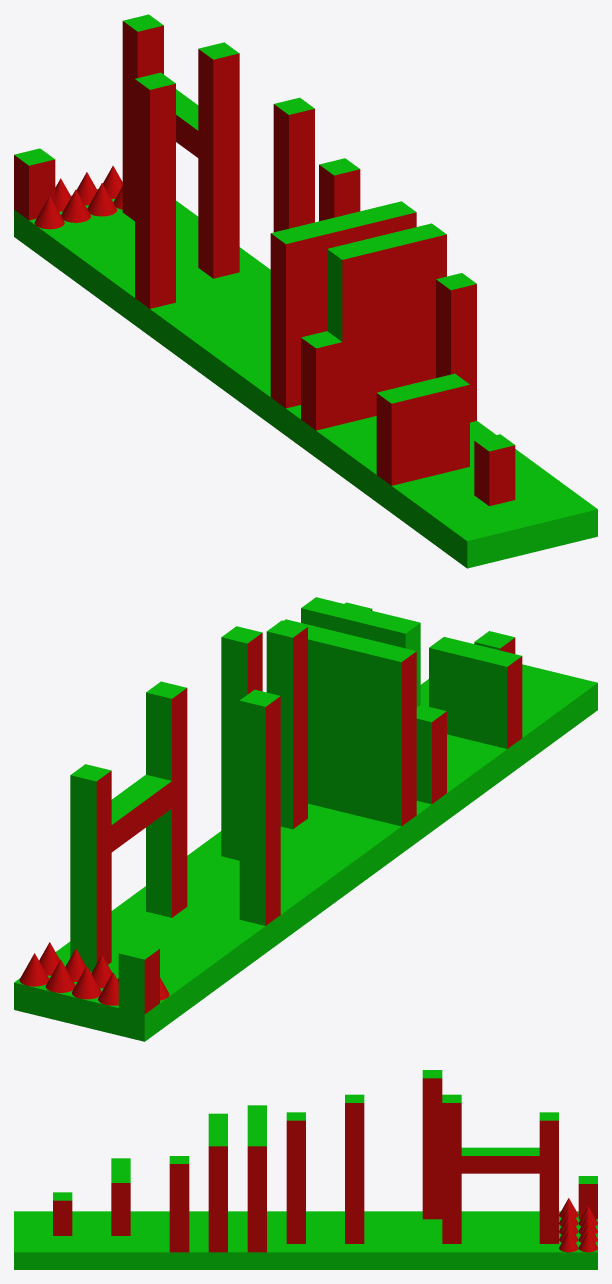
Rendered from MAP.obj.
3 views of the same model, one above another, from view 1: azimuth 30°, elevation 25°; view 2: azimuth 150°, elevation 25°; view 3: azimuth 270°, elevation 25° (orthographic). The views are drawn at different scales.
Visible parts, largest first — view 1: Cube.002, SAFEGROUND_CUBE; view 2: SAFEGROUND_CUBE, Cube.002, Cone.003, Cone, Cone.002; view 3: SAFEGROUND_CUBE, Cube.002.
Part boxes in pixels (left/top/right/bottom): Cube.002: left=14, top=21, right=515, bottom=506; SAFEGROUND_CUBE: left=14, top=14, right=597, bottom=568; SAFEGROUND_CUBE: left=14, top=597, right=597, bottom=1041; Cube.002: left=96, top=609, right=522, bottom=1013; Cone.003: left=19, top=953, right=49, bottom=986; Cone: left=72, top=966, right=101, bottom=999; Cone.002: left=45, top=959, right=75, bottom=992; SAFEGROUND_CUBE: left=14, top=1070, right=597, bottom=1269; Cube.002: left=53, top=1078, right=597, bottom=1252.
Size of the model in its own units: 5 by 9 by 30.
